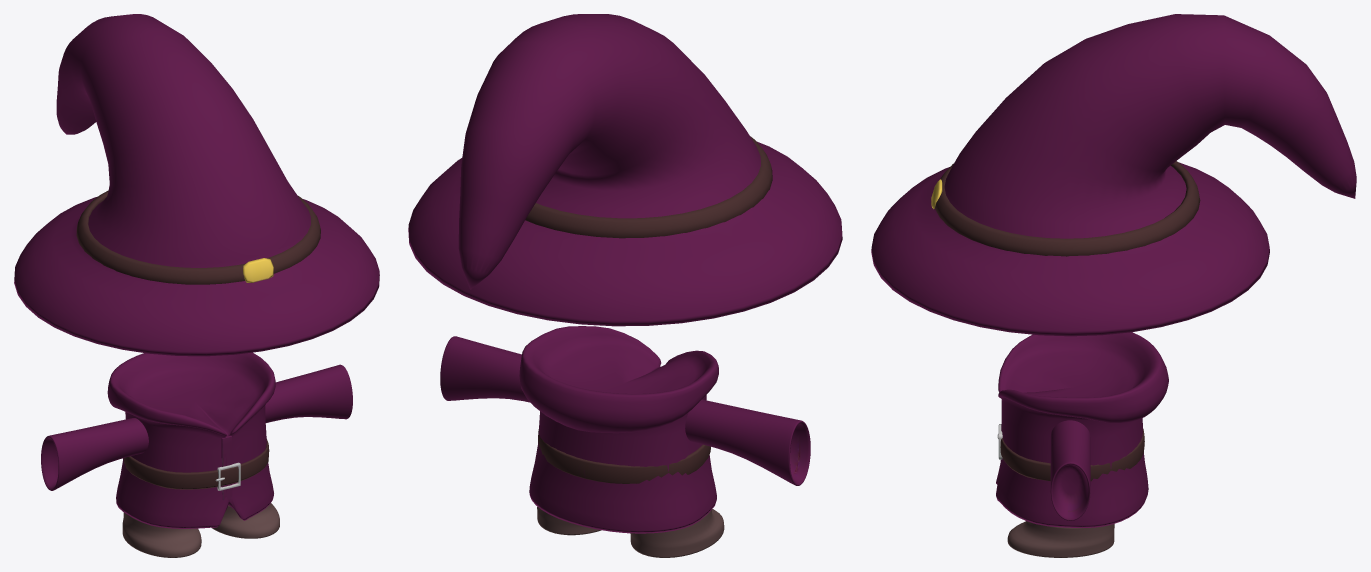
File: wizard.glb
3 renders of one model, left to right at view 1: azimuth 30°, elevation 25°; view 2: azimuth 150°, elevation 25°; view 3: azimuth 270°, elevation 25°, orthographic. The views are drawn at different scales.
Visible parts, largest first — view 1: AO_Phuthuy; view 2: AO_Phuthuy; view 3: AO_Phuthuy.
Boxes of the visible parts, x1,y1,x2,y2 form: AO_Phuthuy: (14,14,379,557); AO_Phuthuy: (408,14,842,557); AO_Phuthuy: (871,14,1356,557).
Size of the model in its own units: 1.13 by 1.56 by 1.37.
1 material, 1 textured.
